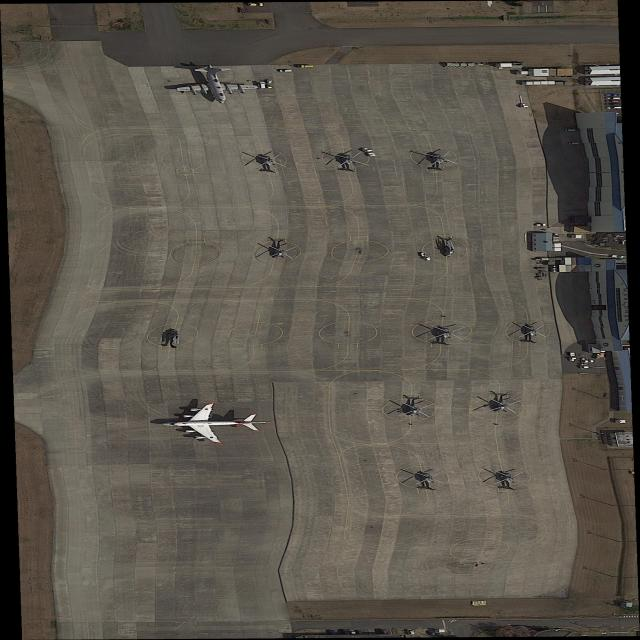plane: (160, 402, 272, 445), (162, 63, 266, 107)
small-vehicle: (358, 146, 379, 157), (418, 252, 433, 261), (567, 353, 577, 362), (298, 64, 314, 68), (340, 630, 350, 636), (406, 629, 415, 635), (379, 629, 388, 635), (327, 630, 337, 635), (258, 82, 265, 89), (605, 97, 621, 100), (355, 630, 364, 635), (427, 631, 436, 636), (605, 103, 620, 106), (605, 100, 620, 103), (581, 360, 595, 363), (348, 630, 356, 635), (565, 129, 577, 132), (280, 70, 293, 72), (569, 143, 580, 145), (536, 224, 546, 226)
